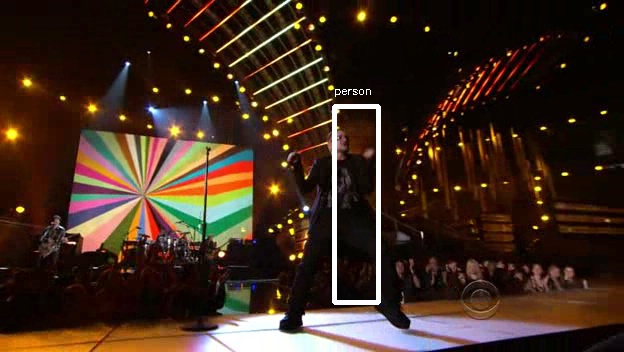person: (308, 128, 373, 246), (305, 128, 370, 246), (311, 128, 376, 246), (308, 125, 373, 243), (308, 131, 373, 249)
target_negative: (96, 70, 226, 243), (186, 192, 239, 307), (373, 109, 398, 245), (563, 55, 599, 123), (456, 194, 486, 214), (556, 102, 566, 156)
